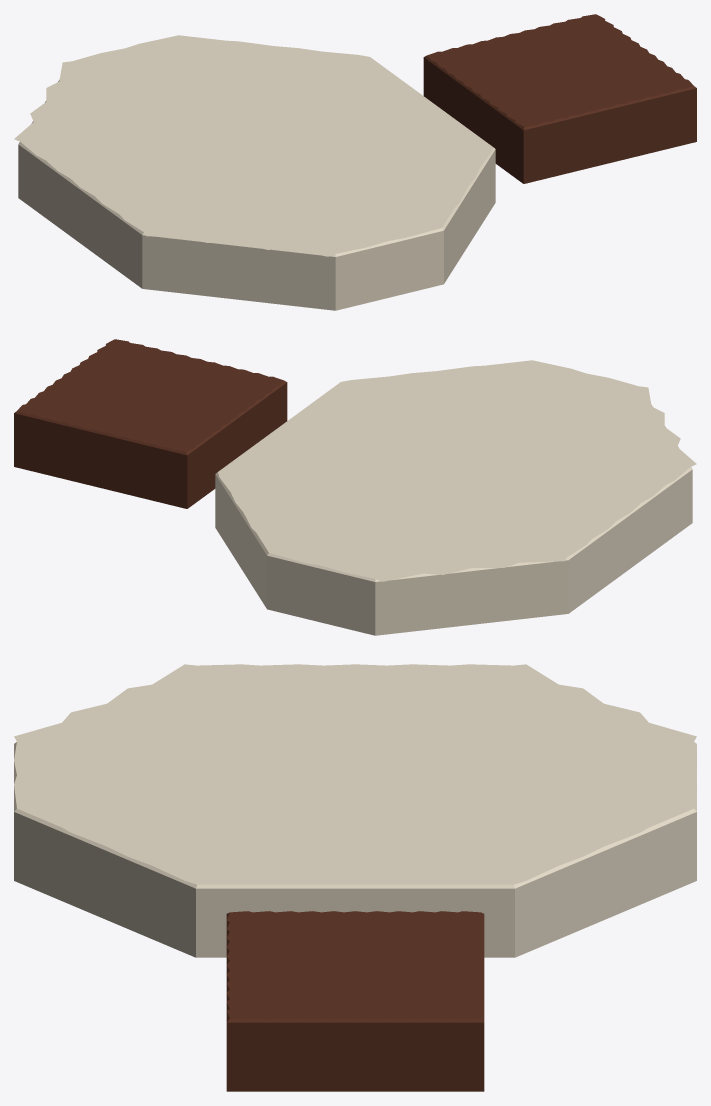
The model's file is mahsulot.glb.
3 renders of one model, top to bottom at view 1: azimuth 30°, elevation 25°; view 2: azimuth 150°, elevation 25°; view 3: azimuth 270°, elevation 25°, orthographic. The views are drawn at different scales.
Visible parts, largest first — view 1: mahsulot_A, mahsulot_B; view 2: mahsulot_A, mahsulot_B; view 3: mahsulot_A, mahsulot_B.
Boxes of the visible parts, x1,y1,x2,y2 form: mahsulot_A: (14, 35, 495, 310); mahsulot_B: (423, 14, 696, 183); mahsulot_A: (215, 360, 696, 635); mahsulot_B: (14, 339, 287, 508); mahsulot_A: (14, 664, 696, 957); mahsulot_B: (226, 911, 484, 1091).
Size of the model in its own units: 0.425 by 0.04 by 0.345.
